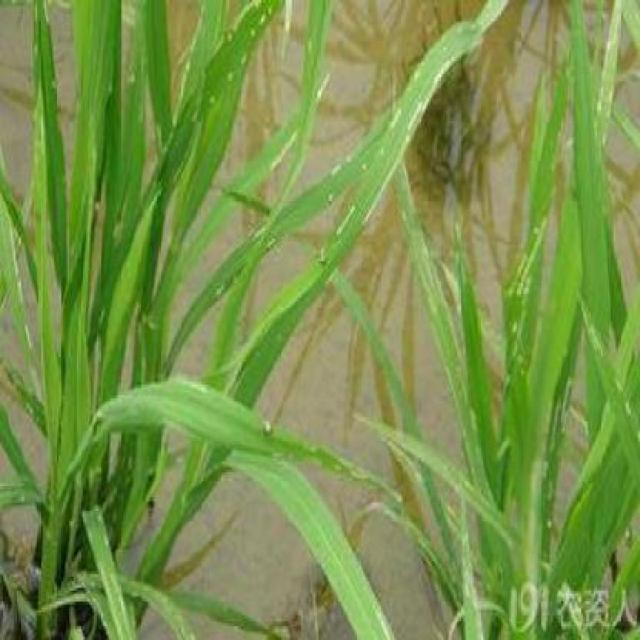rice-bug: (258, 413, 278, 442), (315, 238, 330, 270)
